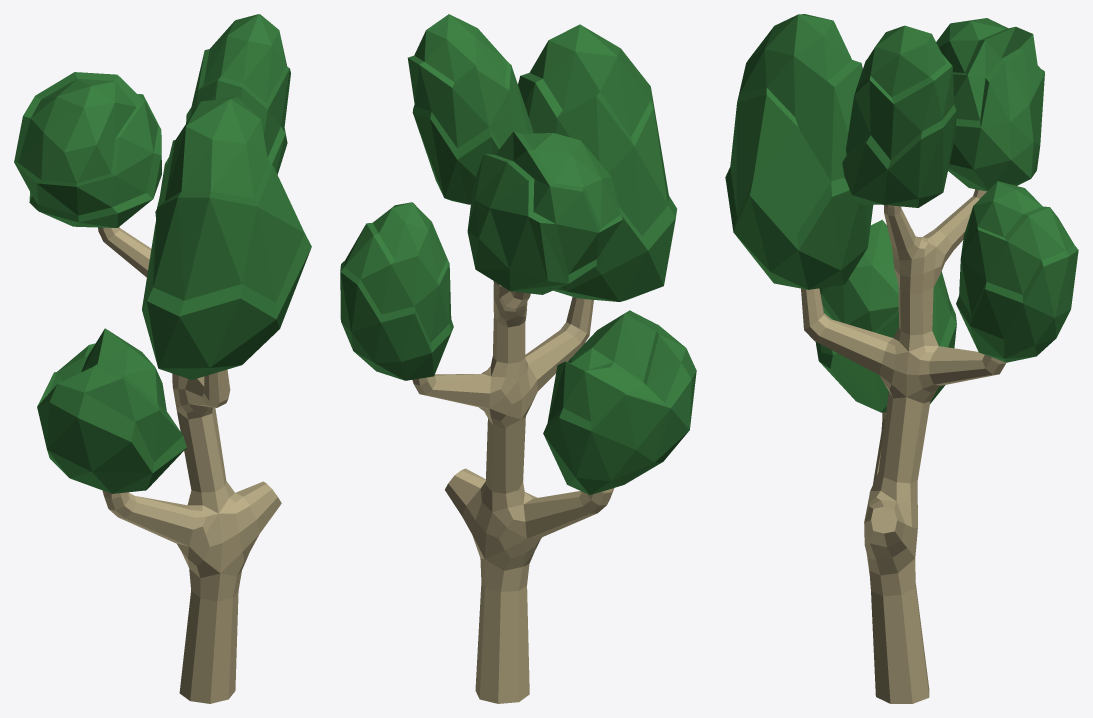
File: tree_birch.fbx
3 renders of one model, left to right at view 1: azimuth 30°, elevation 25°; view 2: azimuth 150°, elevation 25°; view 3: azimuth 270°, elevation 25°, orthographic. The views are drawn at different scales.
Visible parts, largest first — view 1: tree_birch; view 2: tree_birch; view 3: tree_birch.
Boxes of the visible parts, box(x1,y1,x2,y2) form: tree_birch: box(14, 14, 311, 703); tree_birch: box(340, 14, 696, 703); tree_birch: box(725, 14, 1078, 703).
Bounding box in the file's own units: 1.47 × 3.46 × 1.6.
